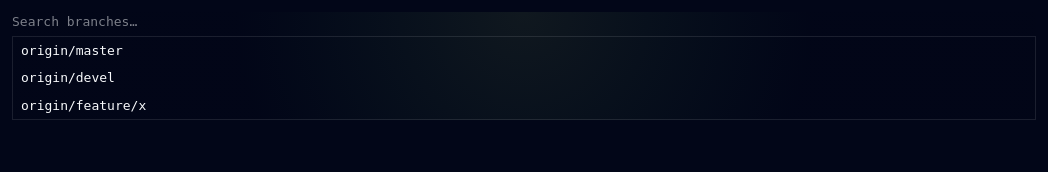
Scenario: BaseBranchSelect › shows an empty message when nothing matches
This screenshot has width=1048, height=172.
In the dropdown: (96, 22) x1=12 y1=12 x2=181 y2=32, type "zzz"
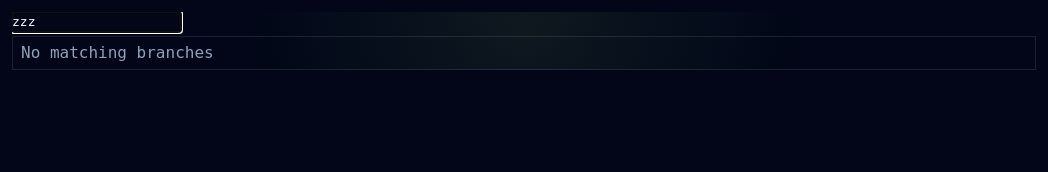
Result: the list item "No matching branches" is shown at x1=21 y1=42 x2=214 y2=62
